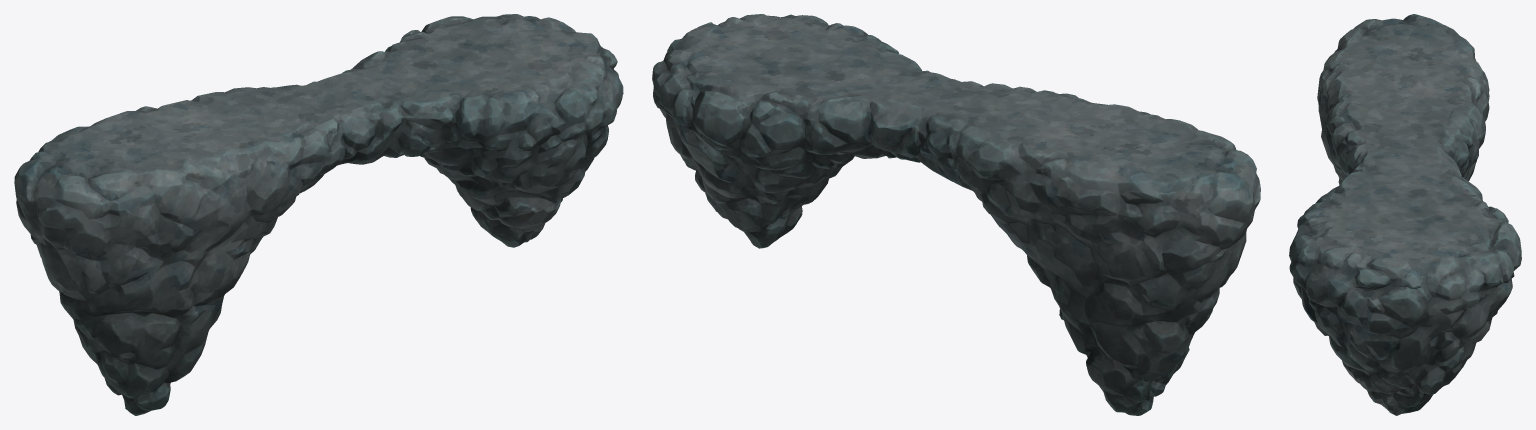
The model's file is Rock_4.fbx.
The picture shows the model from 3 angles, left to right: view 1: azimuth 30°, elevation 25°; view 2: azimuth 150°, elevation 25°; view 3: azimuth 270°, elevation 25°; orthographic projection. The views are drawn at different scales.
Parts seen in each view (by area): view 1: Rock_4; view 2: Rock_4; view 3: Rock_4.
Boxes of the visible parts, <box> form: Rock_4: <box>14,14,623,415</box>; Rock_4: <box>652,14,1260,415</box>; Rock_4: <box>1289,14,1521,415</box>.
Bounding box in the file's own units: 1199 × 537 × 435.
